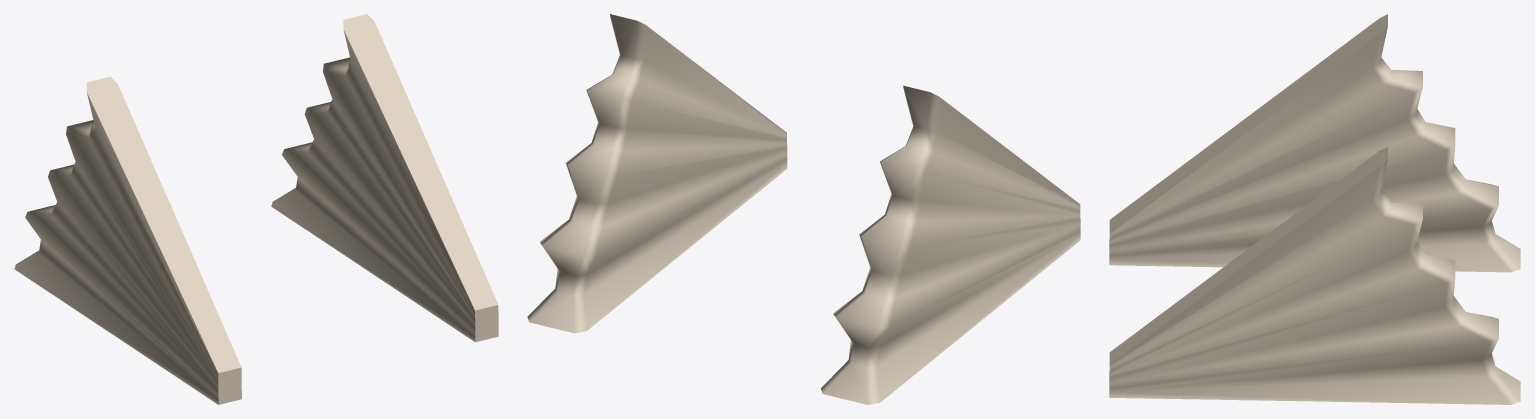
File: airpumps-base.glb
3 views of the same model, side by side, from view 1: azimuth 30°, elevation 25°; view 2: azimuth 150°, elevation 25°; view 3: azimuth 270°, elevation 25° (orthographic). The views are drawn at different scales.
Size of the model in its own units: 1.56 by 1.09 by 1.71.
